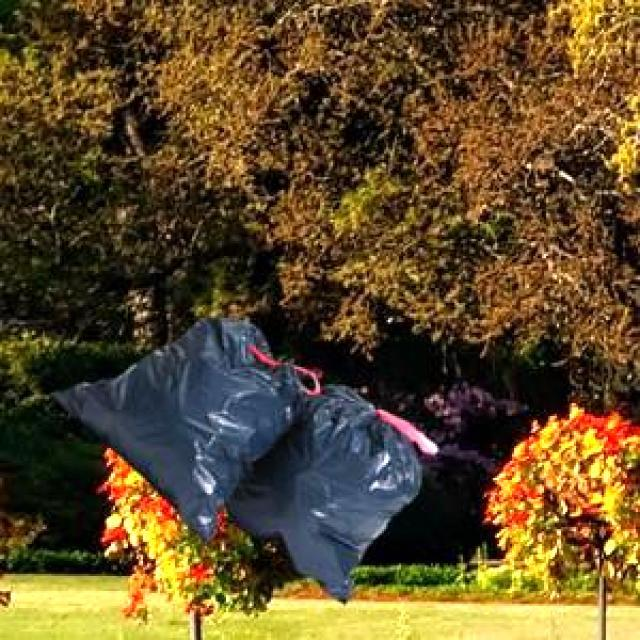Garbage_Bag: (50, 314, 434, 600)
